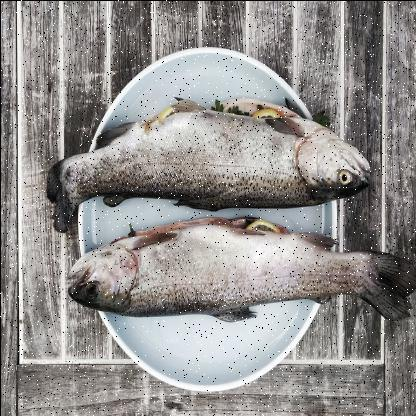fish: (44, 97, 372, 232), (66, 215, 415, 325)
